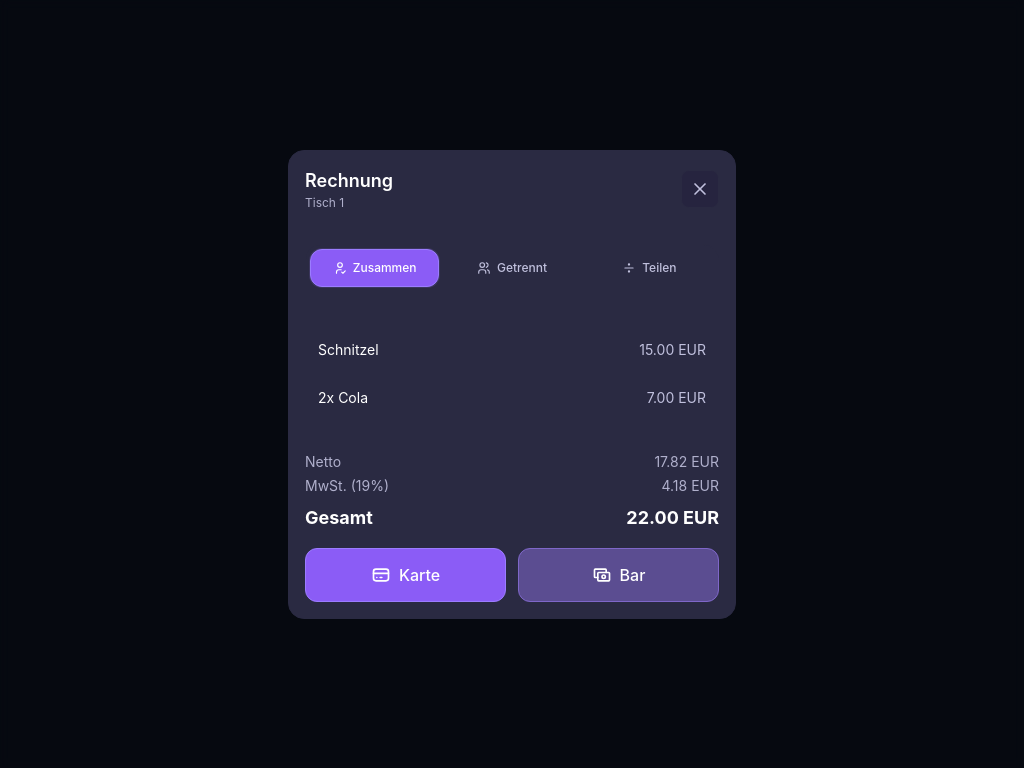
Test: BillingModal › Cash Payment with Change › card payment does not show cash section
Click the button "Karte": (406, 574) [305,548,506,602]
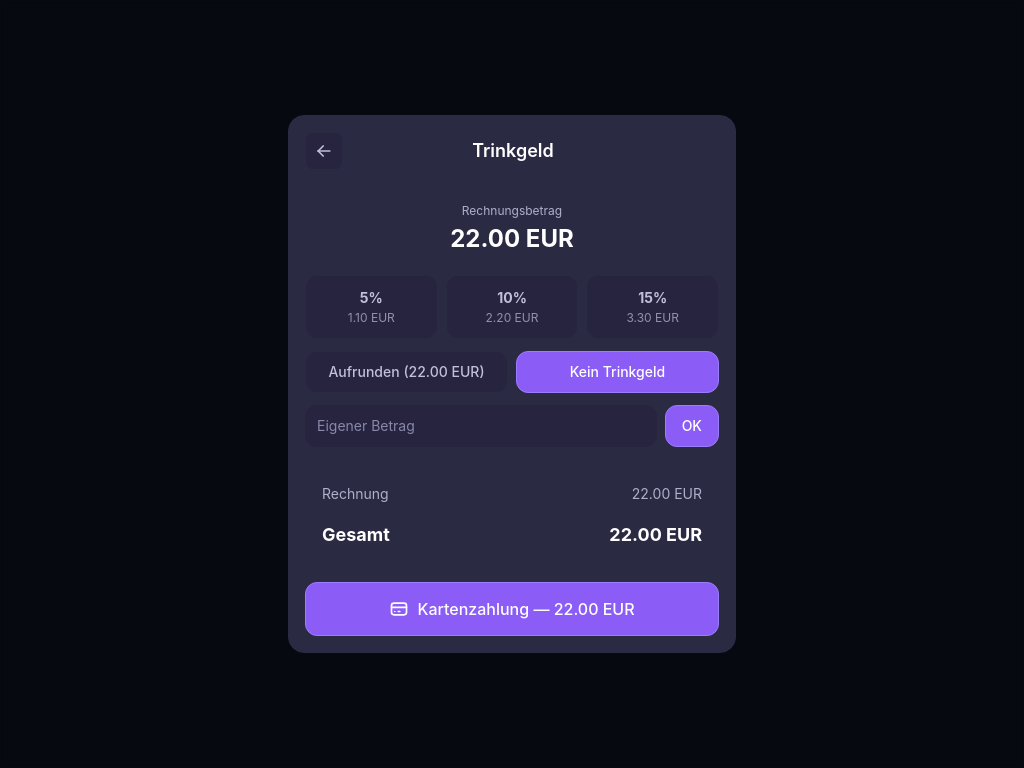
Result: the heading "Trinkgeld" is shown at [472,137,554,165]
